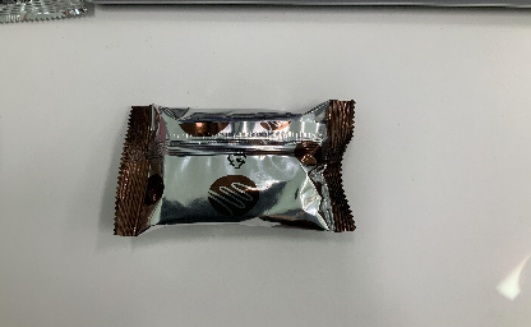mon: (111, 93, 361, 241)
